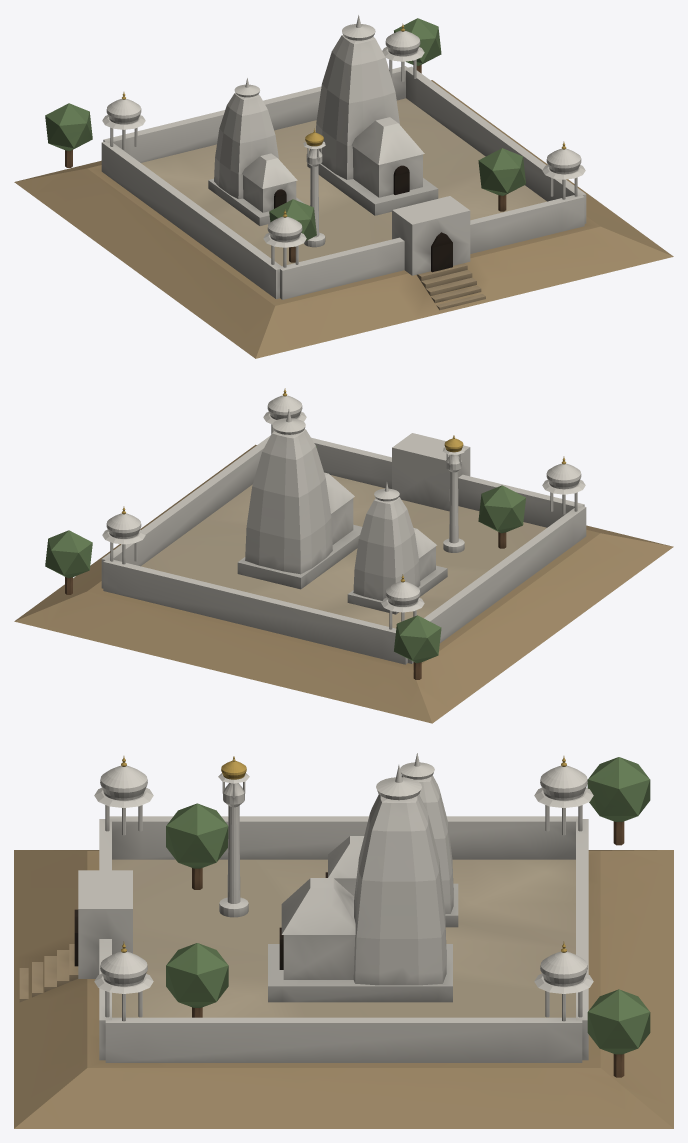
File: kamaldah.glb
3 renders of one model, top to bottom at view 1: azimuth 30°, elevation 25°; view 2: azimuth 150°, elevation 25°; view 3: azimuth 270°, elevation 25°, orthographic. The views are drawn at different scales.
Visible parts, largest first — view 1: p0_mound and wall, p1_shrines, p2_trees; view 2: p0_mound and wall, p1_shrines, p2_trees; view 3: p0_mound and wall, p1_shrines, p2_trees.
Part boxes in pixels (box(x1,y1,x2,y2)): p0_mound and wall: box(14, 66, 673, 358); p1_shrines: box(208, 15, 438, 225); p2_trees: box(45, 18, 585, 267); p0_mound and wall: box(14, 433, 673, 723); p1_shrines: box(237, 409, 447, 614); p2_trees: box(45, 388, 585, 679); p0_mound and wall: box(14, 816, 673, 1128); p1_shrines: box(268, 753, 458, 1002); p2_trees: box(94, 756, 650, 1077).
Bounding box in the file's own units: 36 × 14.97 × 36.
